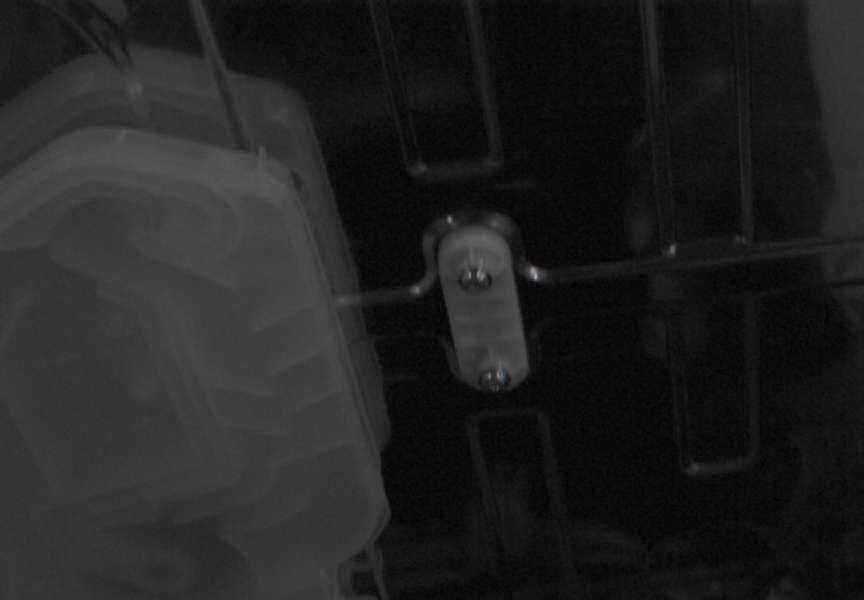screw: (458, 266, 492, 293), (478, 366, 511, 393)
